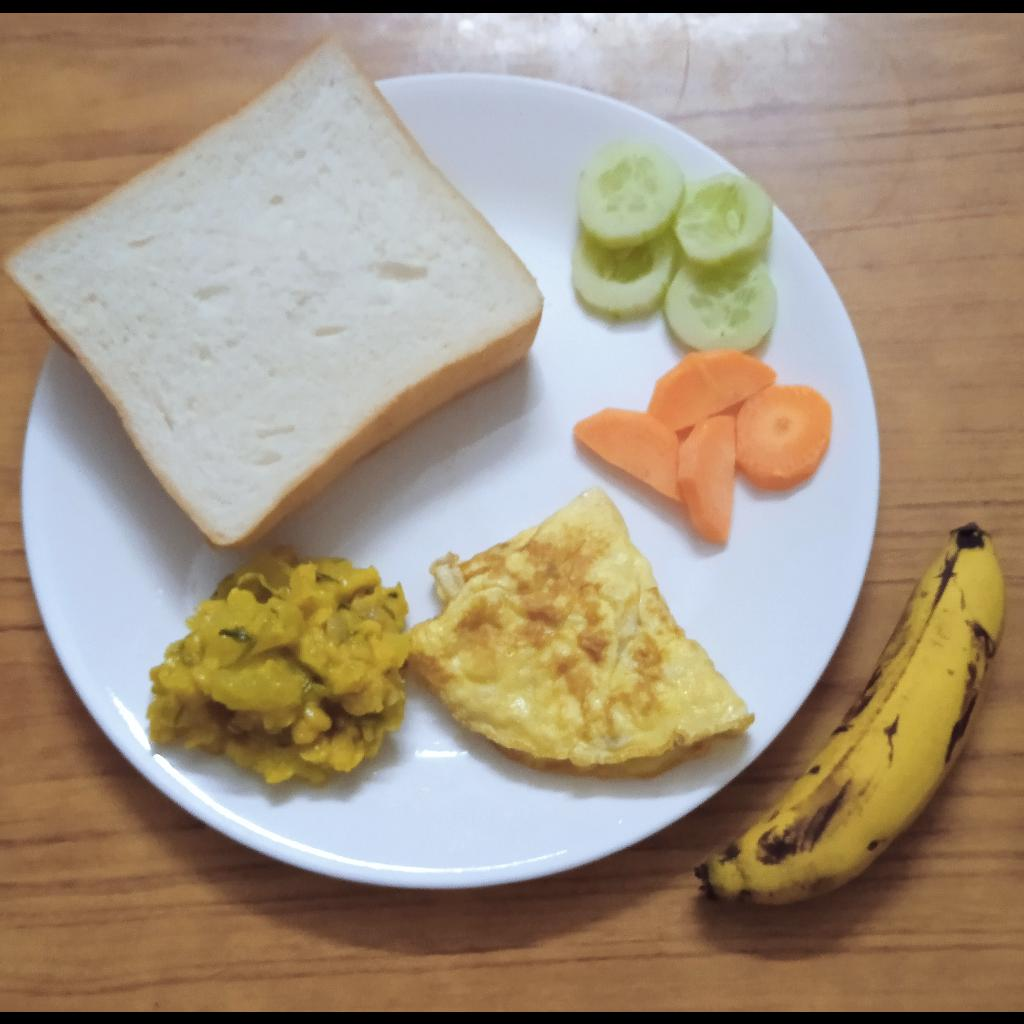bread: (0, 34, 544, 551)
carrot: (573, 349, 832, 544)
cucumber: (573, 139, 775, 350)
egg-poached: (409, 484, 755, 777)
lau: (145, 546, 411, 781)
